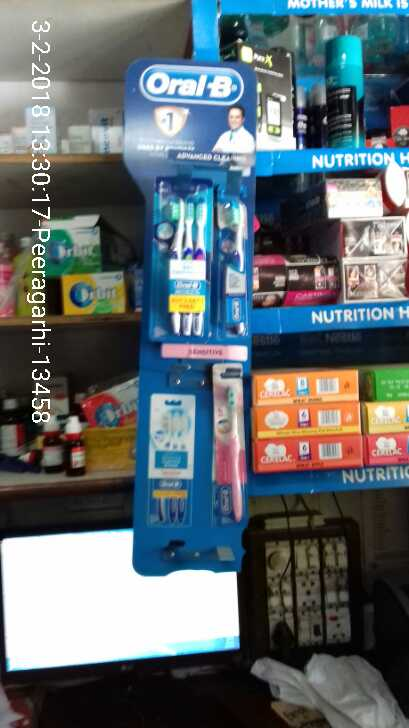oralb: (157, 193, 215, 341), (223, 196, 256, 332), (222, 386, 245, 524)
